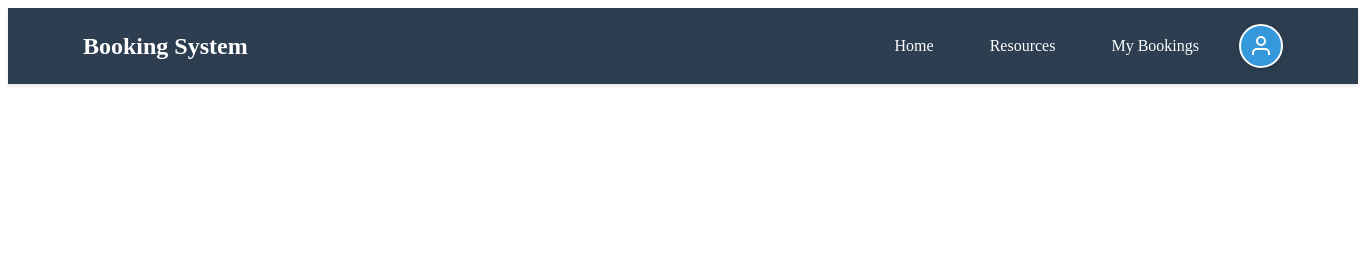
it: Nav Component › when user is authenticated › renders the logout button when user is logged in
// Open dropdown first
Click the button named "Profile menu".
click(1261, 46)  # box [1239,24,1283,68]
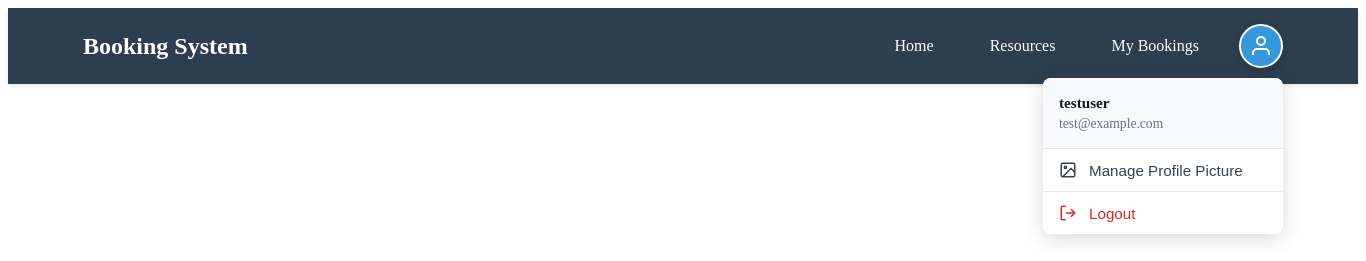
expect the button "Logout" is shown: met, box [1043,191,1283,234]
